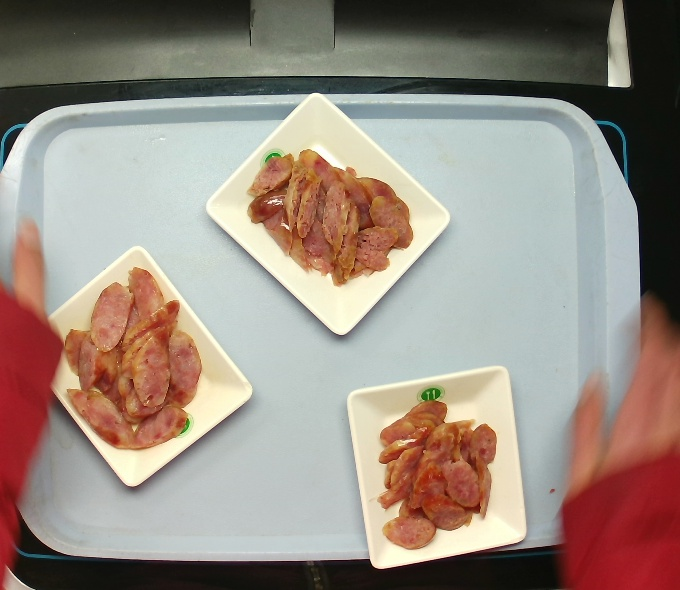wcq-QiePianXiangChang: (56, 265, 207, 451), (250, 145, 419, 284), (366, 393, 502, 549)
